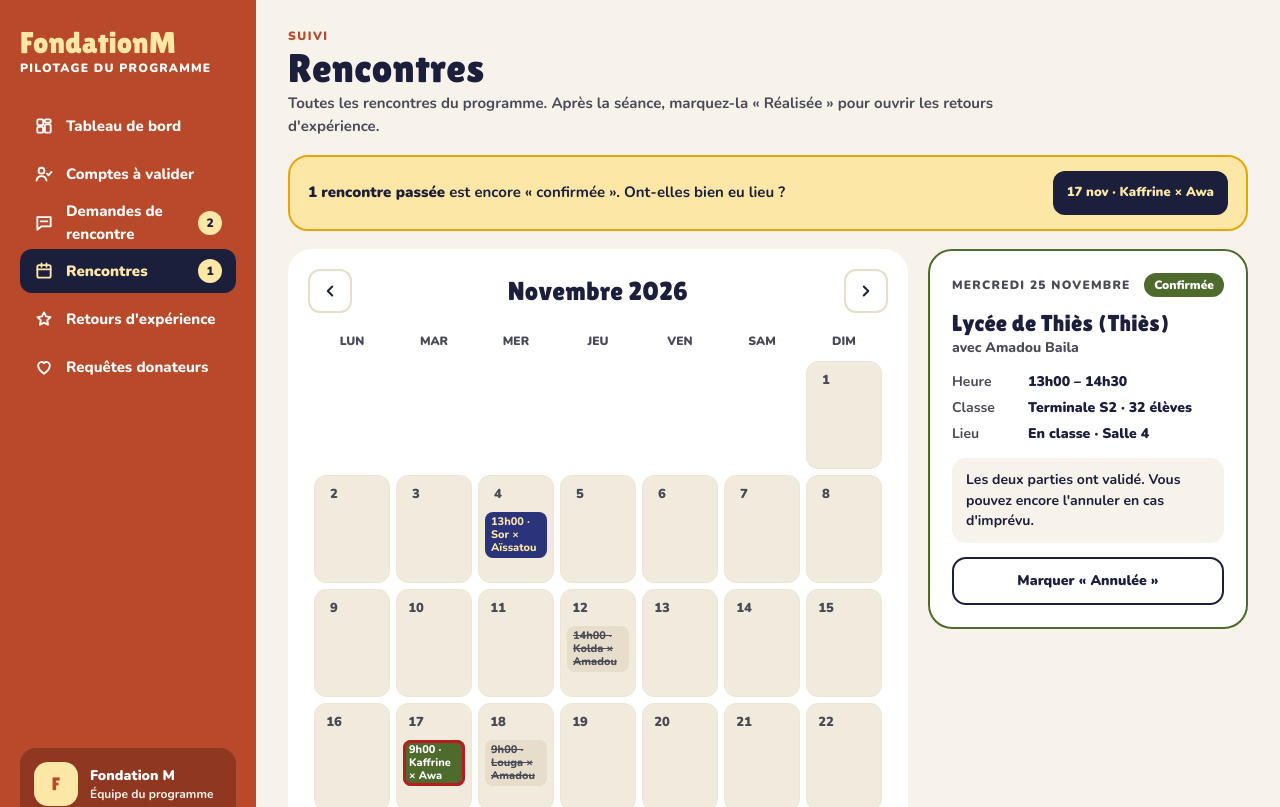
Test: Rencontres (Fondation) › montre l’erreur d’annulation du serveur
Click the button "Marquer « Annulée »".
click(1088, 581)  # box x1=952 y1=557 x2=1224 y2=605
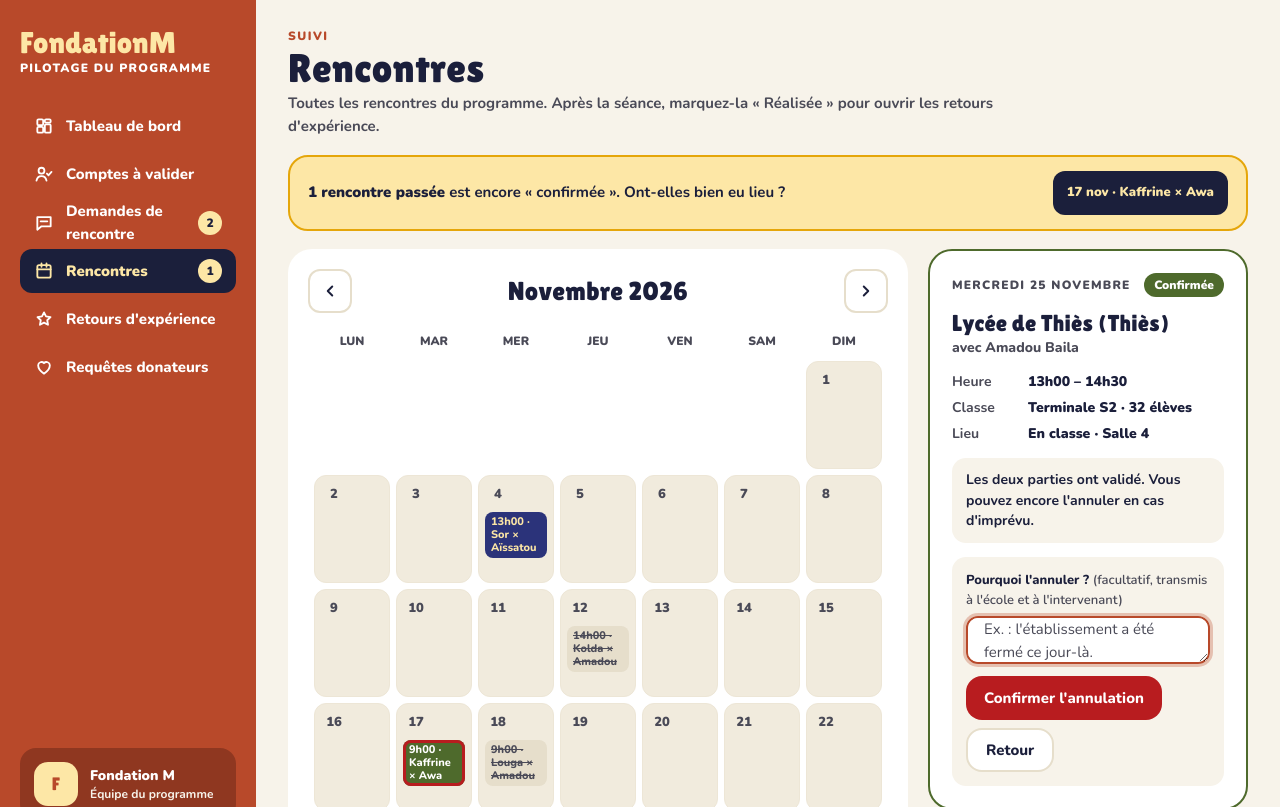
Click the button "Confirmer l'annulation".
click(1064, 698)  # box x1=966 y1=676 x2=1162 y2=720
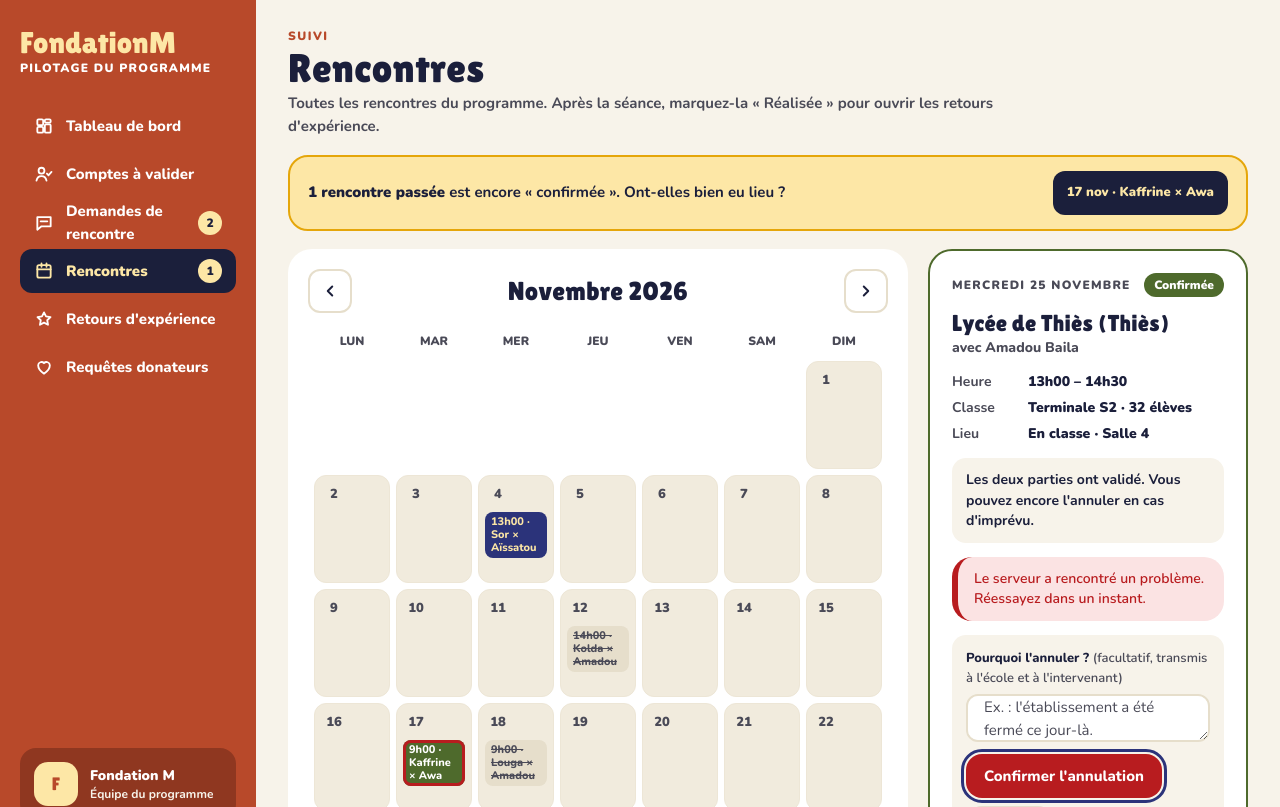
Check: the message "Le serveur a rencontré un problème. Réessayez dans un instant." is shown, box x1=952 y1=557 x2=1224 y2=621
